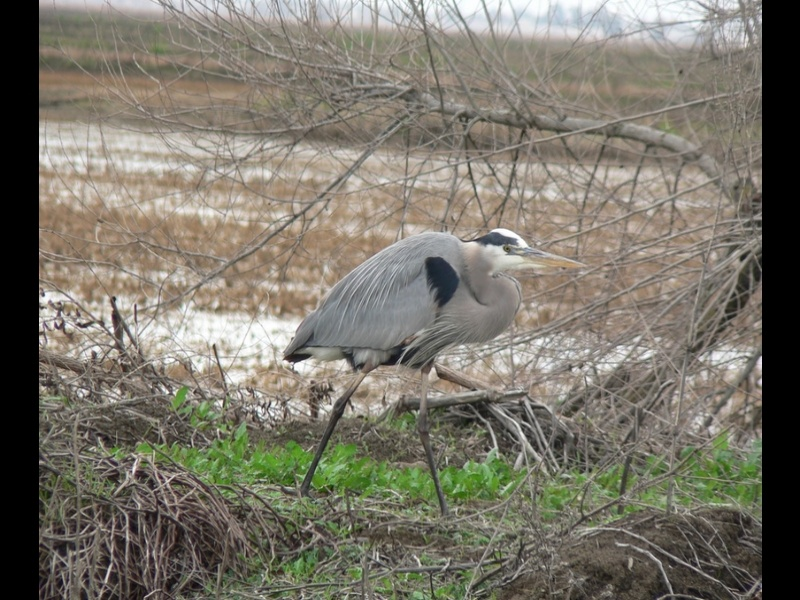heron: (274, 221, 590, 512)
